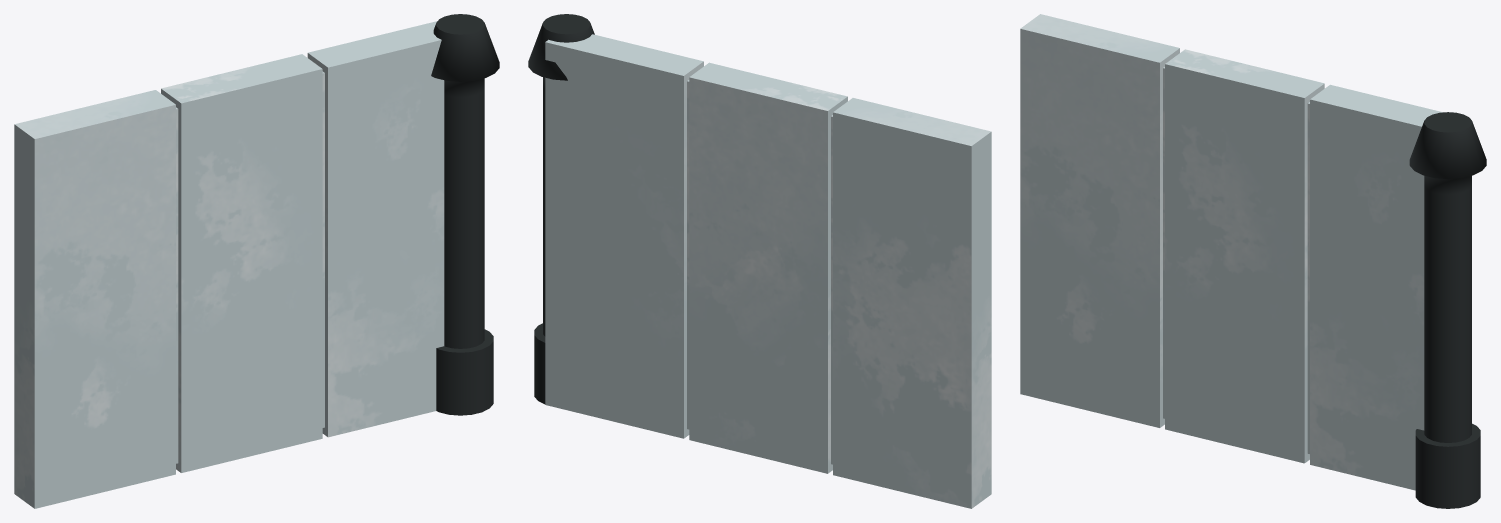
File: wall.FBX
The picture shows the model from 3 angles, left to right: view 1: azimuth 30°, elevation 25°; view 2: azimuth 150°, elevation 25°; view 3: azimuth 330°, elevation 25°; orthographic projection.
Visible parts, largest first — view 1: Box001, Cylinder001; view 2: Box001, Cylinder001; view 3: Box001, Cylinder001.
Boxes of the visible parts, x1,y1,x2,y2 form: Box001: (14,21,444,508); Cylinder001: (431,14,499,415); Box001: (545,34,991,508); Cylinder001: (528,14,594,404); Box001: (1020,14,1442,490); Cylinder001: (1409,112,1486,508).
Bounding box in the file's own units: 258 × 201 × 37.67.
